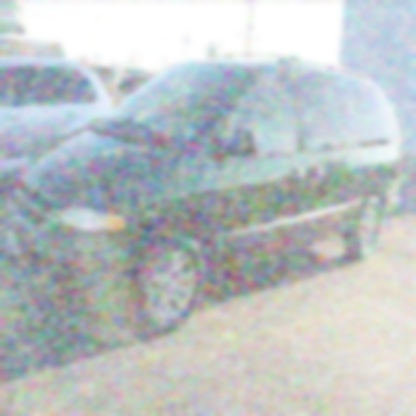Vehicle: (7, 53, 404, 335)
